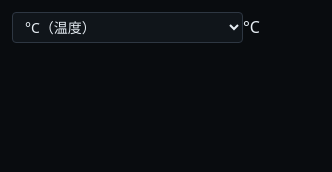
Scenario: UnitSelect › 「その他」を選ぶと入力欄が出て、自由に入力できる
Step 1. Select "その他（自由入力）" in the dropdown named "単位" → (128, 28), box x1=12 y1=12 x2=243 y2=43
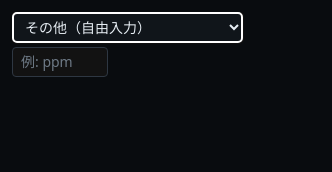
Step 2. Type "psi" into the field named "単位（自由入力）" → (60, 62), box x1=12 y1=47 x2=108 y2=77
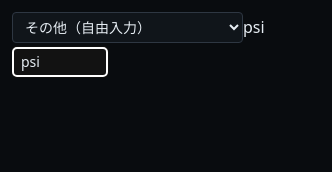
Check: the text with test id "value" reads "psi", box x1=243 y1=16 x2=265 y2=38
